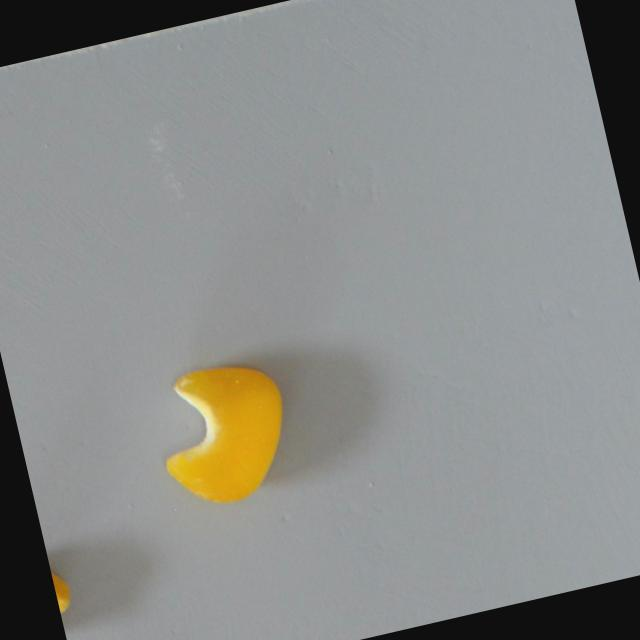no_canjicado: (146, 350, 303, 514), (45, 546, 81, 640)
